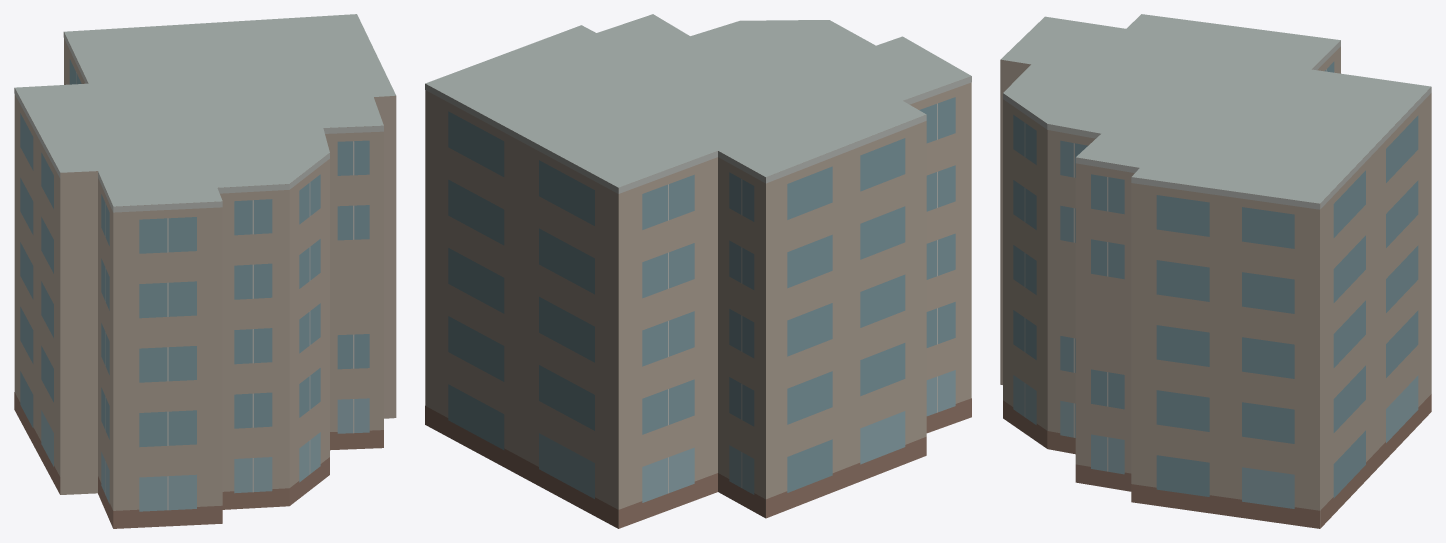
The model's file is survey-upis-32584059.glb.
3 views of the same model, side by side, from view 1: azimuth 30°, elevation 25°; view 2: azimuth 150°, elevation 25°; view 3: azimuth 270°, elevation 25° (orthographic). The views are drawn at different scales.
Parts seen in each view (by area): view 1: survey-upis-32584059.tmp; view 2: survey-upis-32584059.tmp; view 3: survey-upis-32584059.tmp.
Part boxes in pixels (<box>): survey-upis-32584059.tmp: <box>14,14,396,528</box>; survey-upis-32584059.tmp: <box>425,14,971,528</box>; survey-upis-32584059.tmp: <box>1000,14,1431,528</box>.
Size of the model in its own units: 16.46 by 13.15 by 15.81.
